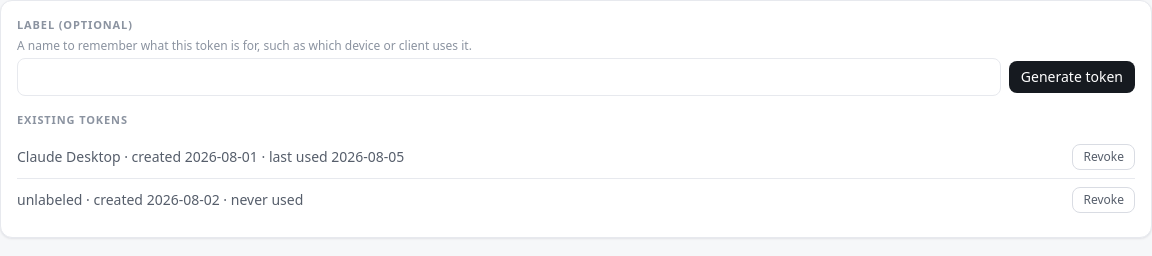
it: McpTokenManager › shows an honest error and does not refresh when revoke fails
The width and height of the screenshot is (1152, 256).
Click the button "Revoke" in the row of "Claude Desktop" at coordinates (1104, 157), box [1072,144,1135,170]
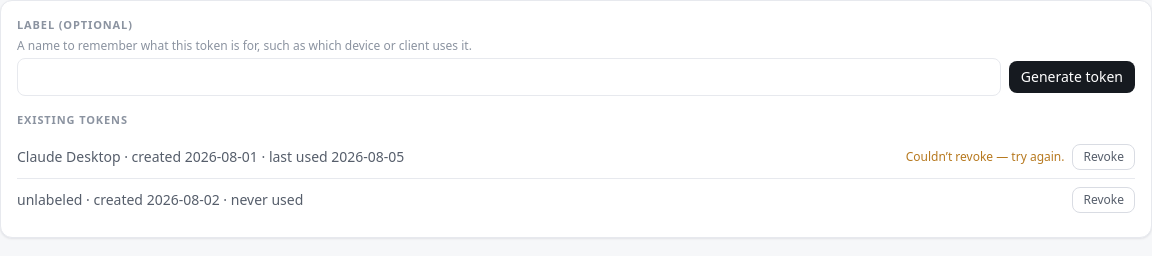
Result: the text "Couldn’t revoke — try again." is shown at [906,149,1064,165]
